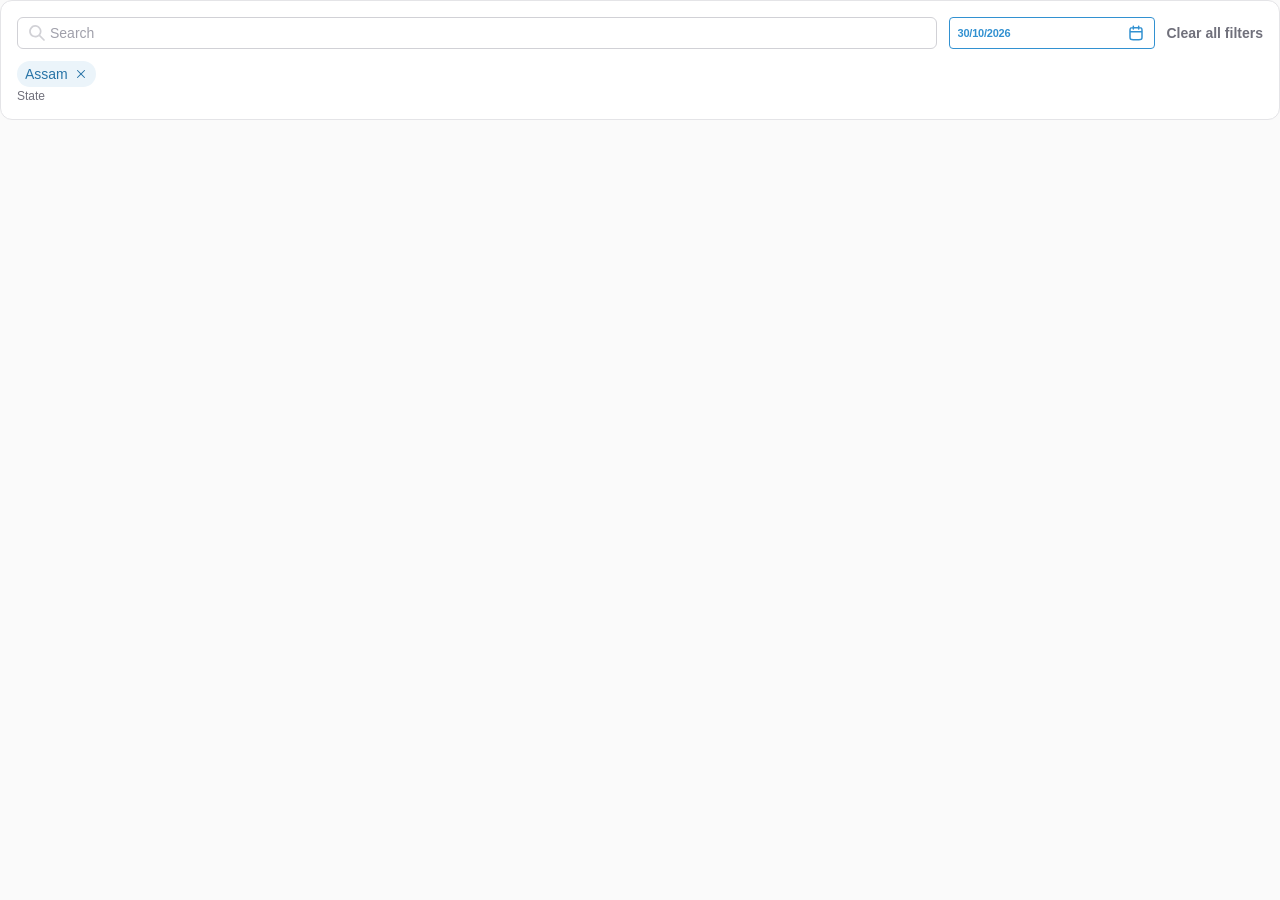
DashboardFilters › shows departmental empty-state text using the active hierarchy label
Type "kugkj" into the field. click: [477, 33]
box: [17,17,936,49]
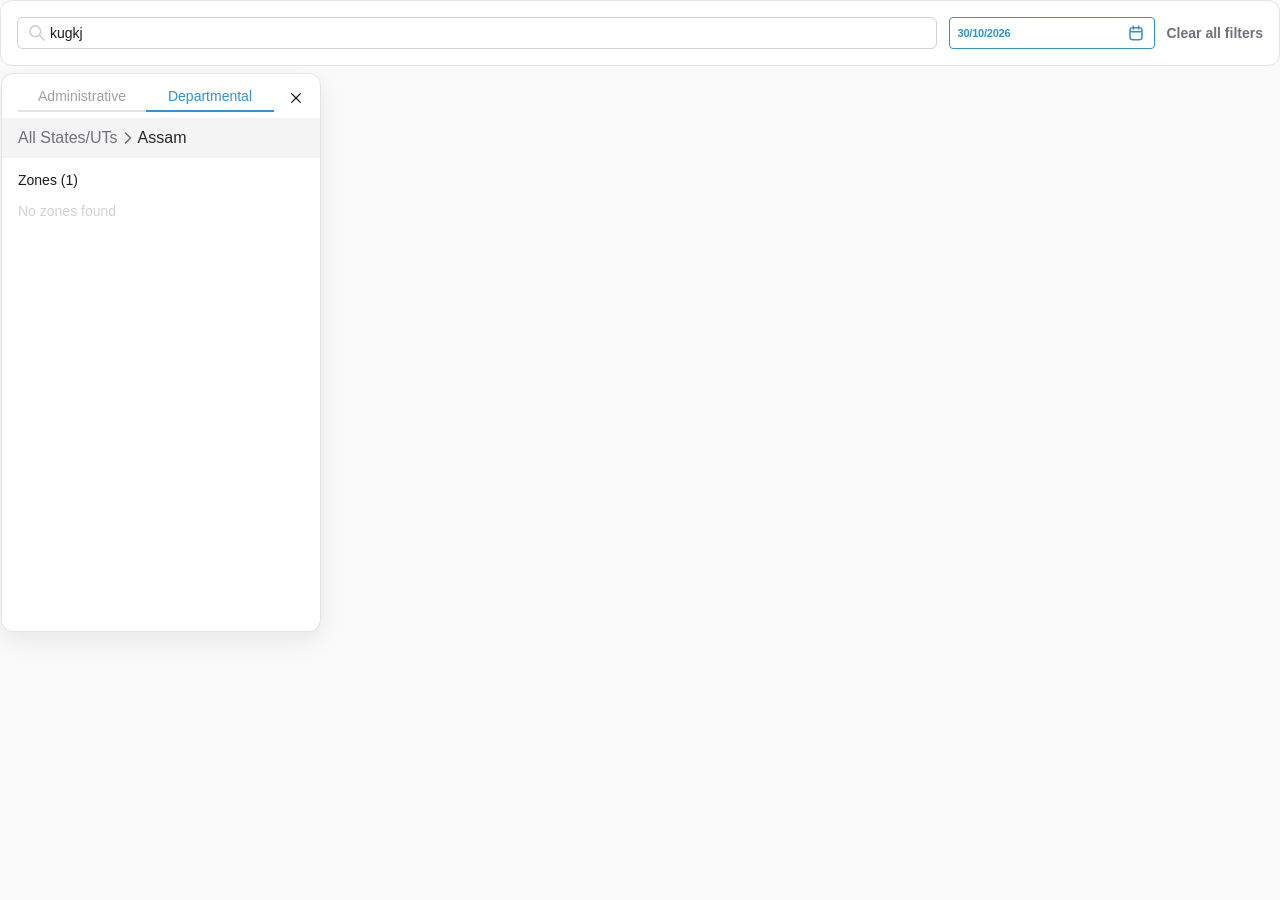
Now the text "No zones found" is shown, box [18,203,116,219]
